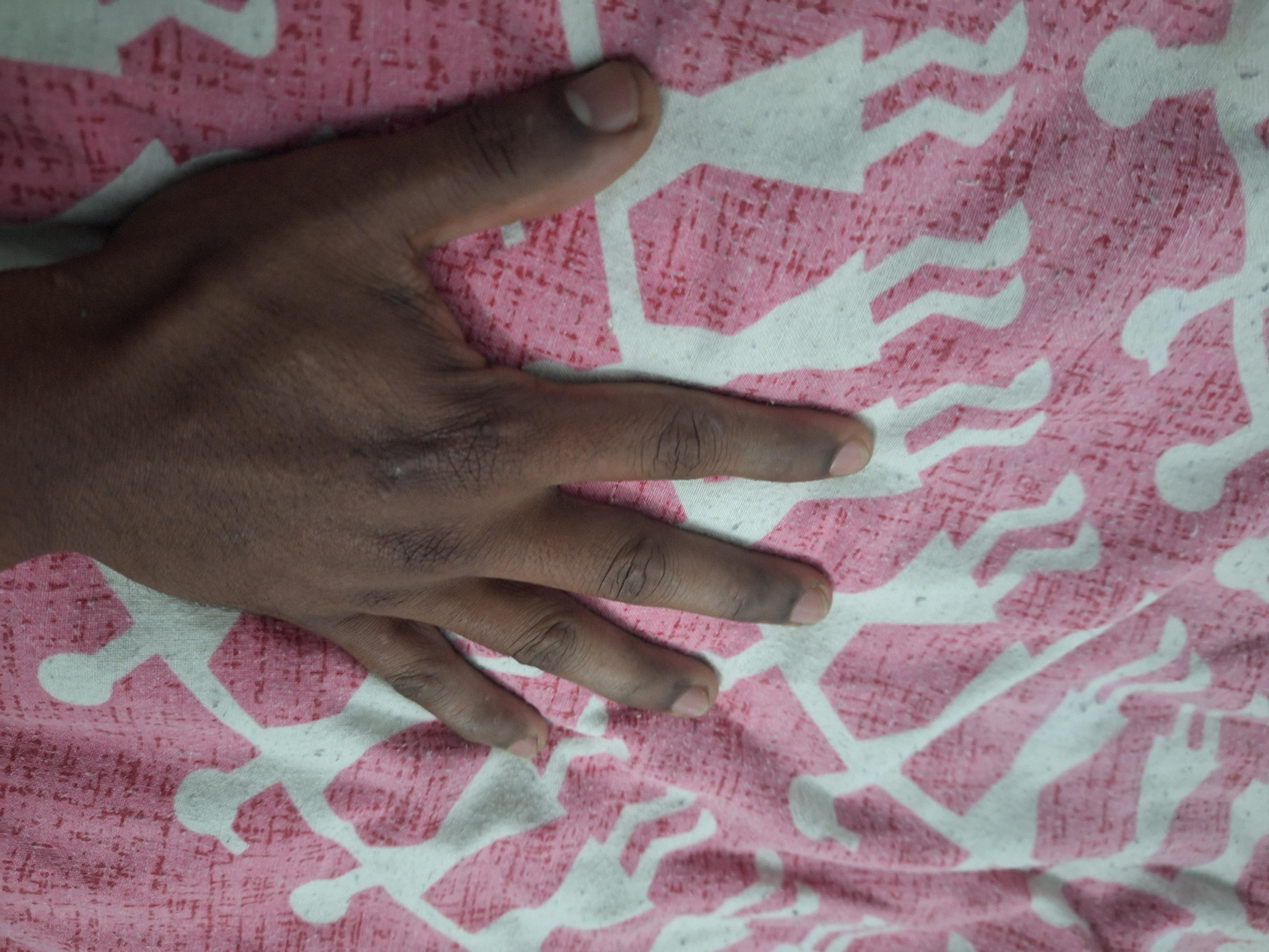Fingernail: (566, 61, 640, 133), (830, 439, 870, 477), (790, 590, 827, 625), (672, 688, 708, 718), (505, 737, 537, 759)
